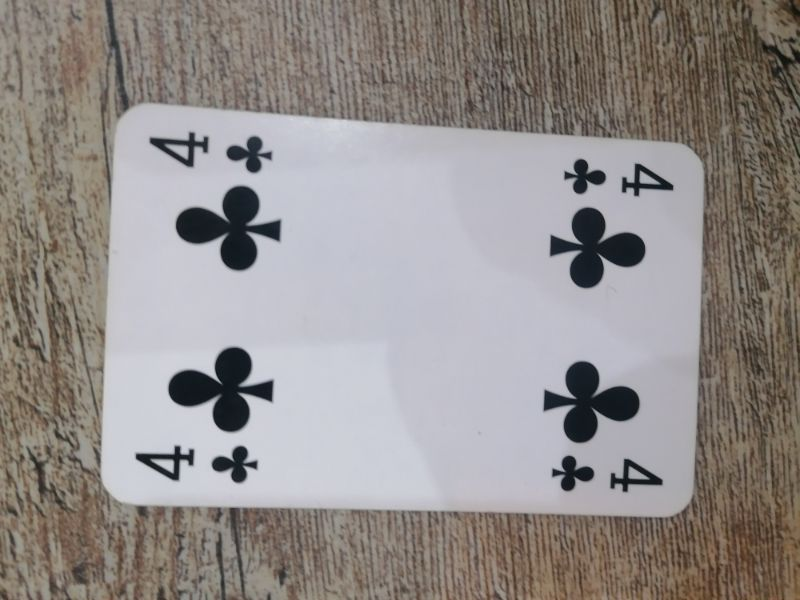4c: (129, 438, 267, 490), (145, 127, 280, 179), (546, 449, 669, 501), (559, 153, 679, 203)
